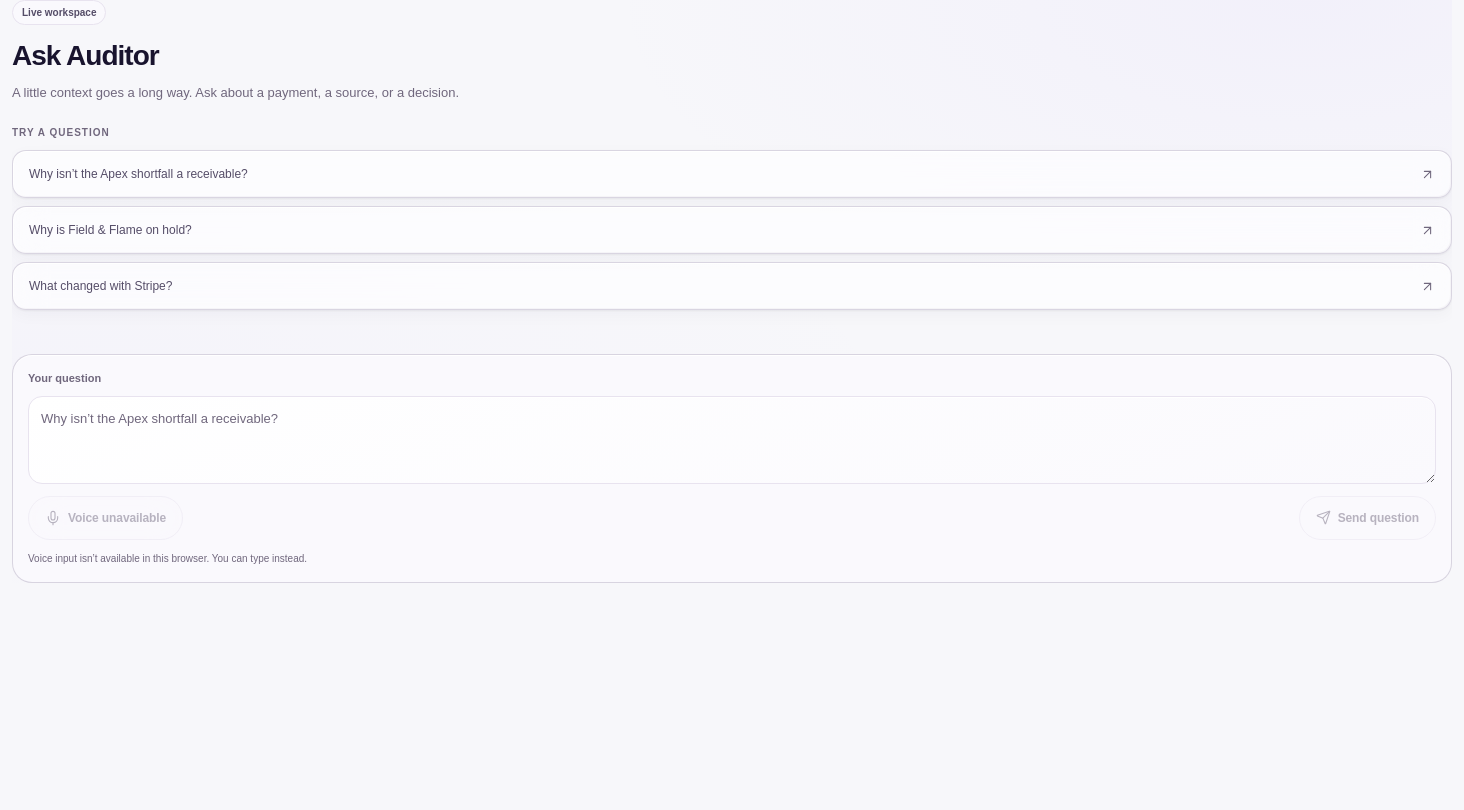
Scenario: source-backed answers and workspace boundaries › retains the question after a failed live request and never substitutes a demo answer
Type "Explain the Apex entry" into the text box labelled "Your question" at (732, 440), box [28, 396, 1436, 484]
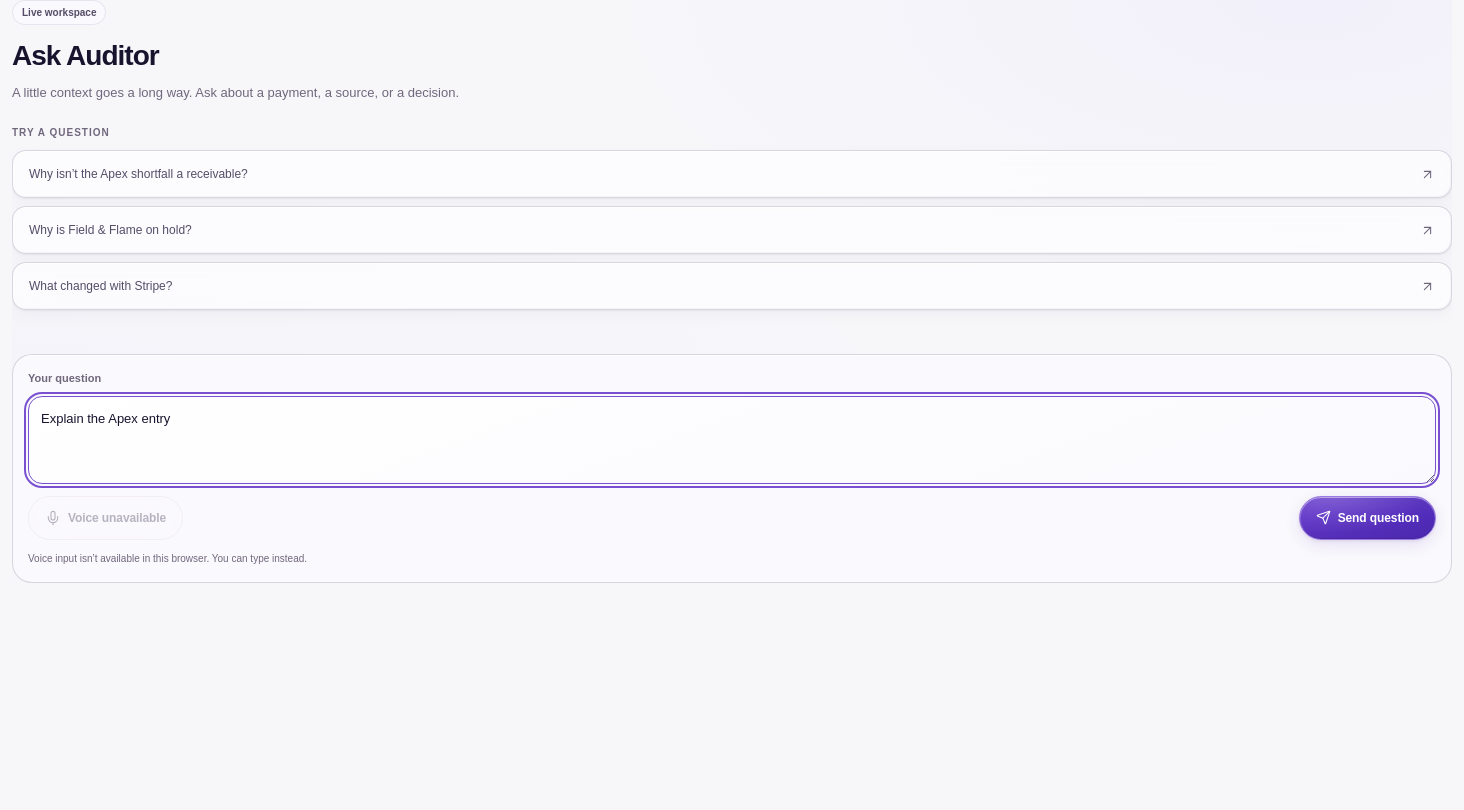
Click the button "Send question" at (1367, 518), box [1299, 496, 1436, 540]
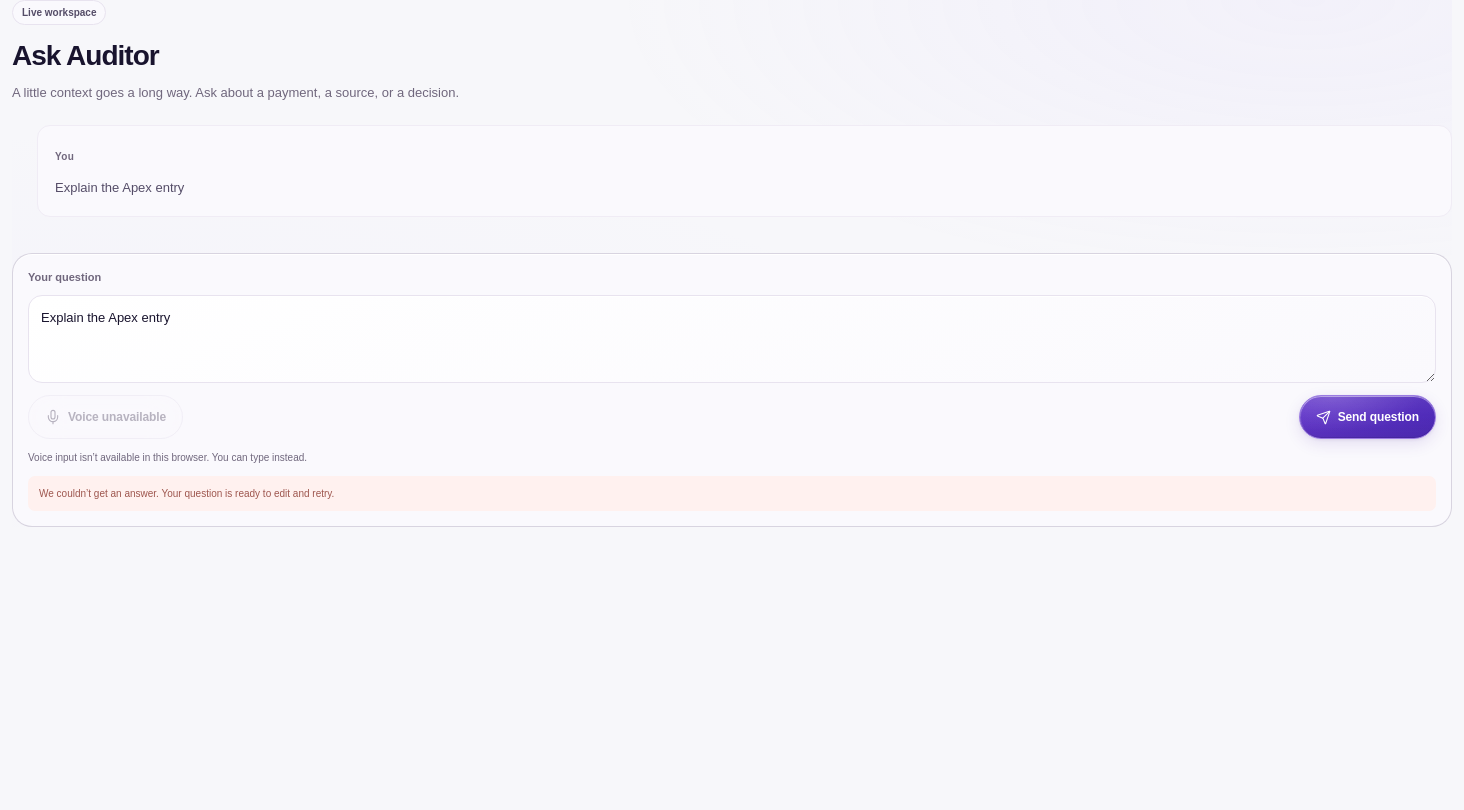
Expected: the button "Send question" is enabled, [1299, 395, 1436, 439]
Expected: the message "We couldn’t get an answer. Your question is ready to edit and retry." is shown, [28, 476, 1436, 511]
